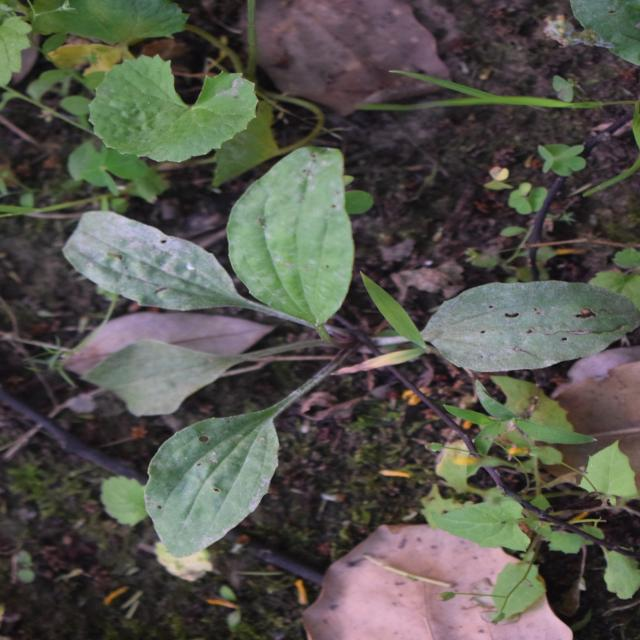plantain: (101, 106, 488, 488)
